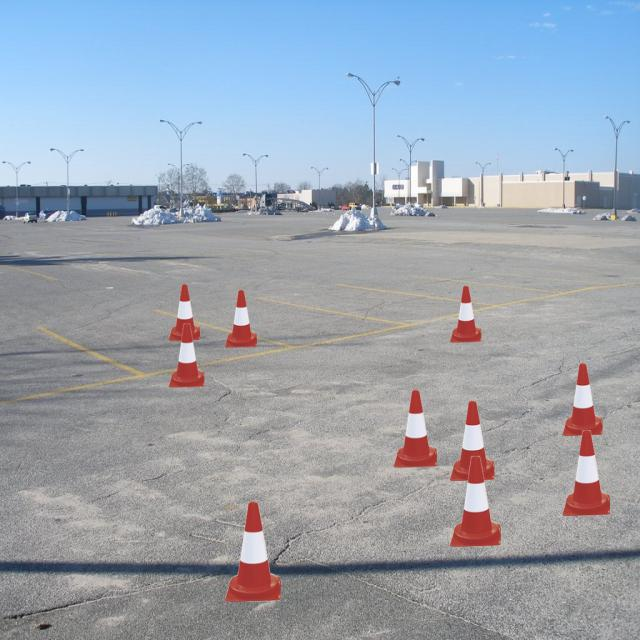orange_cone: (225, 502, 281, 602), (450, 456, 501, 546), (562, 430, 610, 516), (450, 401, 494, 481), (394, 390, 437, 468), (562, 363, 602, 436), (169, 323, 204, 388), (225, 290, 257, 348), (169, 284, 200, 341), (450, 286, 481, 342)
